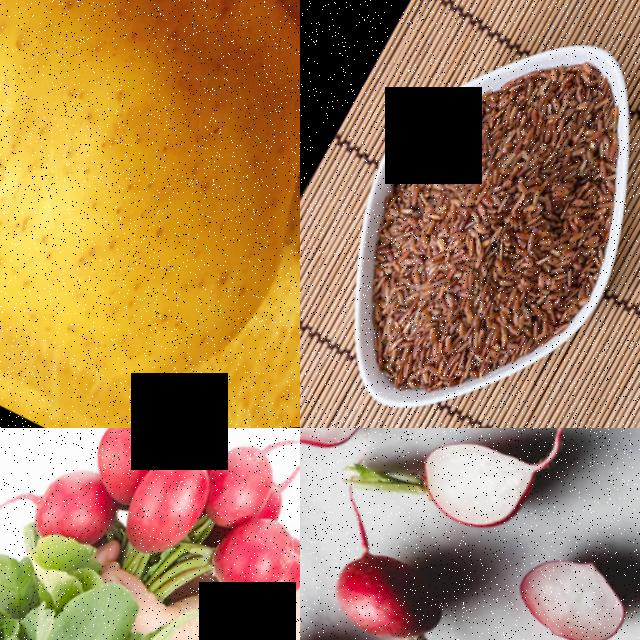potato: (0, 0, 300, 428)
radishes: (0, 428, 300, 640), (362, 428, 551, 574), (312, 530, 485, 640), (498, 539, 640, 640), (300, 428, 385, 493)
red rice: (314, 18, 640, 428)
